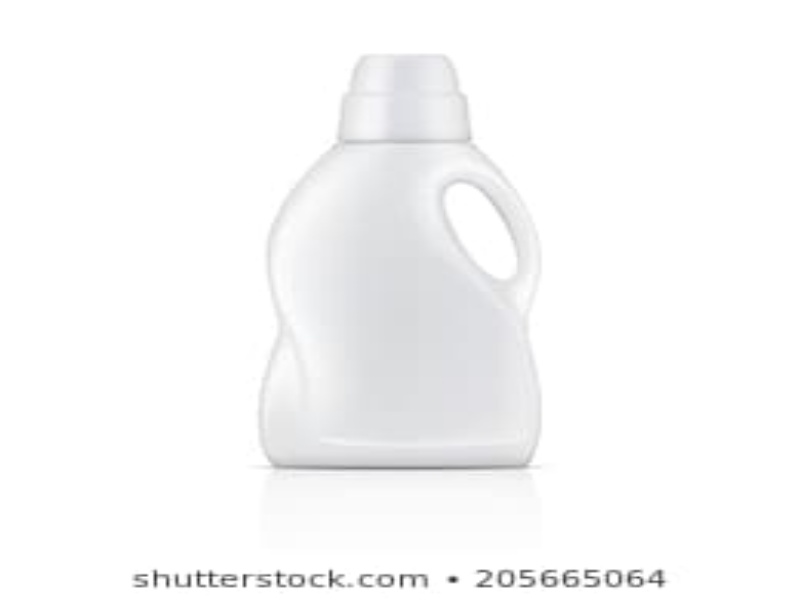detergent-bottle: (252, 50, 569, 474)
